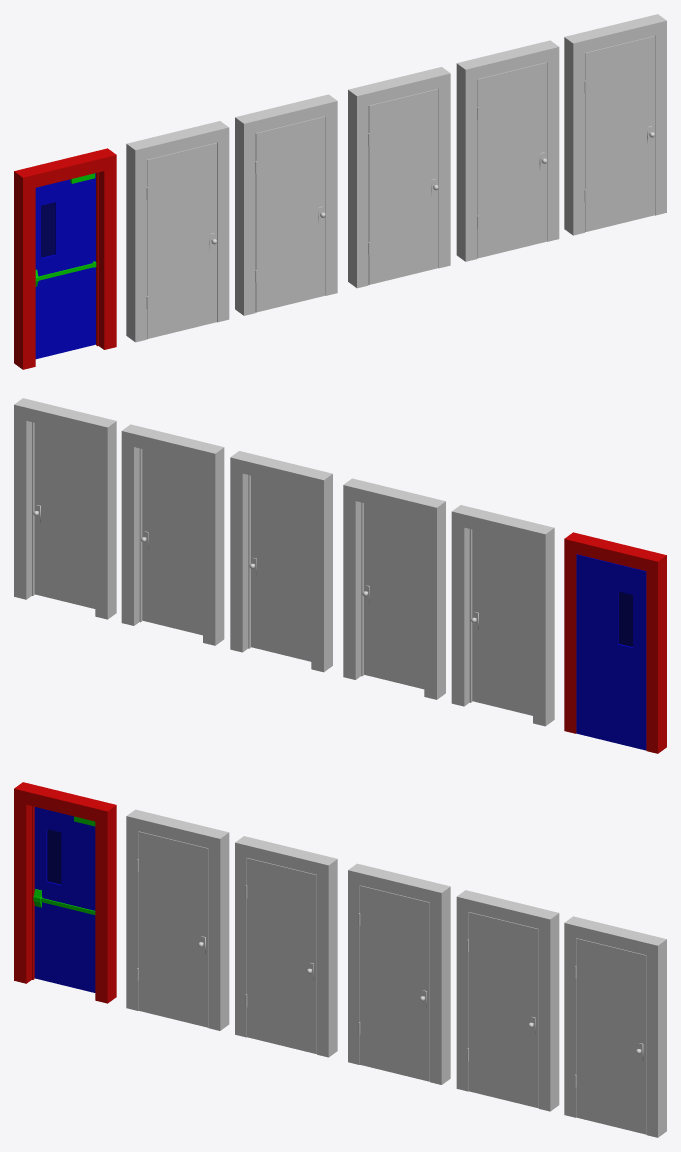
The model's file is Doors.fbx.
The picture shows the model from 3 angles, top to bottom: view 1: azimuth 30°, elevation 25°; view 2: azimuth 150°, elevation 25°; view 3: azimuth 330°, elevation 25°; orthographic projection.
Parts seen in each view (by area): view 1: door_04_doska_low, door_02_doska_low, door_03_doska_low, door_01_doska_low, door_05_doska_low, Door_exit_doska_01, Door_exit_box_01, door_01_box_low, door_04_box_low, door_02_box_low, door_03_box_low, door_05_box_low; view 2: Door_exit_doska_01, door_05_doska_low, door_03_doska_low, door_02_doska_low, door_01_doska_low, door_04_doska_low, door_01_box_low, door_04_box_low, door_02_box_low, door_03_box_low, door_05_box_low, Door_exit_box_01; view 3: door_05_doska_low, door_04_doska_low, door_01_doska_low, door_02_doska_low, door_03_doska_low, Door_exit_doska_01, Door_exit_box_01, door_01_box_low, door_04_box_low, door_05_box_low, door_03_box_low, door_02_box_low.
Boxes of the visible parts, box(x1,y1,x2,y2) form: door_04_doska_low: box(477, 62, 547, 258); door_02_doska_low: box(255, 116, 325, 312); door_03_doska_low: box(368, 89, 438, 284); door_01_doska_low: box(147, 143, 216, 338); door_05_doska_low: box(585, 36, 654, 232); Door_exit_doska_01: box(35, 173, 96, 359); Door_exit_box_01: box(14, 148, 116, 369); door_01_box_low: box(126, 121, 229, 342); door_04_box_low: box(456, 40, 559, 261); door_02_box_low: box(235, 94, 337, 315); door_03_box_low: box(348, 67, 450, 288); door_05_box_low: box(564, 14, 666, 235); Door_exit_doska_01: box(576, 554, 646, 750); door_05_doska_low: box(33, 423, 95, 608); door_03_doska_low: box(249, 475, 311, 661); door_02_doska_low: box(362, 503, 424, 689); door_01_doska_low: box(471, 529, 532, 715); door_04_doska_low: box(141, 449, 202, 635); door_01_box_low: box(451, 505, 554, 726); door_04_box_low: box(121, 424, 224, 645); door_02_box_low: box(343, 478, 445, 699); door_03_box_low: box(230, 451, 332, 672); door_05_box_low: box(14, 398, 116, 619); Door_exit_box_01: box(564, 532, 666, 753); door_05_doska_low: box(576, 938, 646, 1134); door_04_doska_low: box(468, 912, 538, 1107); door_01_doska_low: box(138, 831, 208, 1027); door_02_doska_low: box(247, 858, 316, 1053); door_03_doska_low: box(360, 885, 429, 1081); Door_exit_doska_01: box(33, 807, 95, 992); Door_exit_box_01: box(14, 782, 116, 1003); door_01_box_low: box(126, 809, 229, 1030); door_04_box_low: box(456, 890, 559, 1111); door_05_box_low: box(564, 916, 666, 1137); door_03_box_low: box(348, 863, 450, 1084); door_02_box_low: box(235, 836, 337, 1057).
Size of the model in its own units: 824 by 235 by 28.14.
